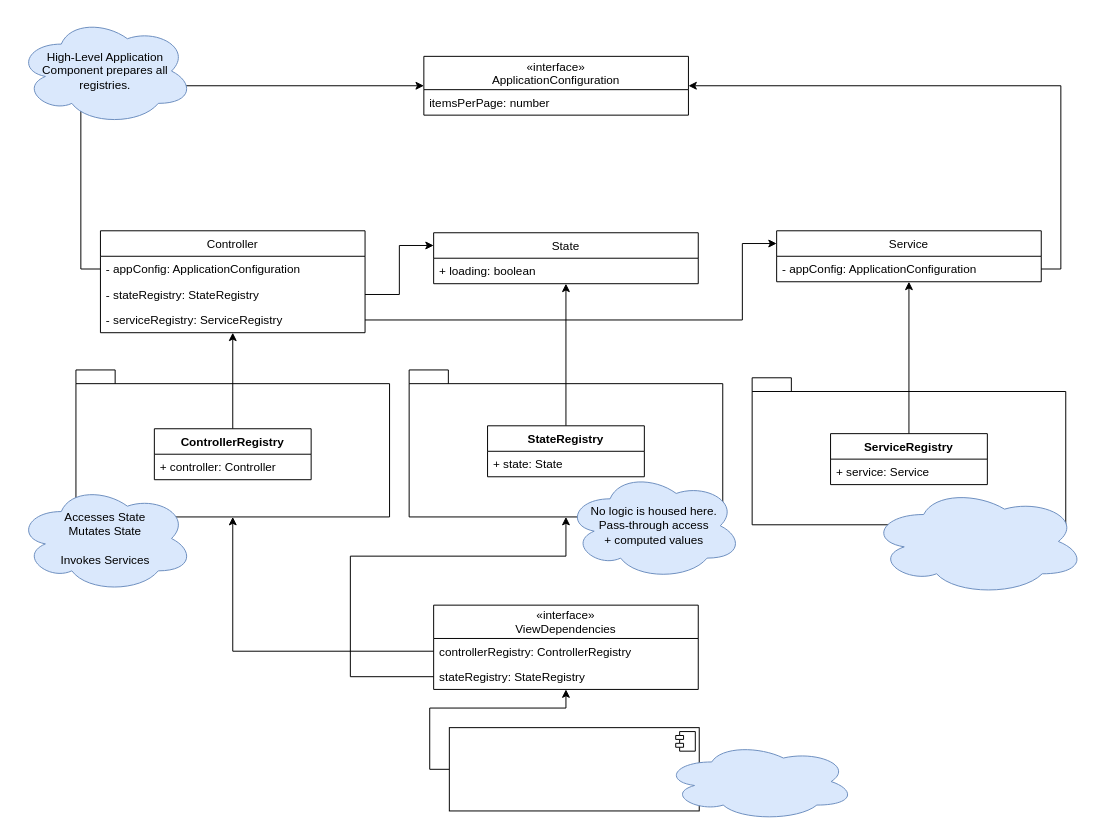
Some shapes in this 1103 by 838 pixel diagram are drawn without their labels. The centre of each missing label's shape, as x and y in pixels:
1-1 Mapping with backend services. (Passthrough with middleware): (x=977, y=541)
Invokes Controller Accesses State: (x=759, y=781)
View - viewDependencies: ViewDependencies: (x=573, y=769)
